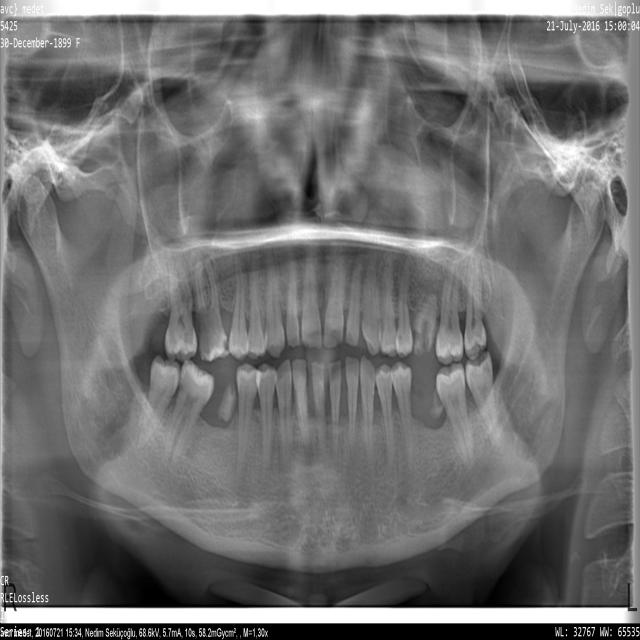Canine: (265, 248, 284, 358), (362, 256, 381, 355), (275, 359, 291, 474), (360, 356, 375, 465)
Incisores: (311, 362, 332, 465), (302, 248, 322, 350), (324, 255, 344, 347), (292, 360, 309, 456), (329, 360, 341, 464), (346, 264, 361, 347), (286, 261, 300, 347), (346, 357, 358, 457)
Premolars: (236, 363, 260, 488), (256, 364, 276, 493), (391, 362, 414, 471), (379, 254, 399, 357), (375, 364, 393, 478), (229, 253, 248, 360), (246, 253, 265, 359), (396, 257, 413, 358)
molars: (164, 361, 214, 461), (137, 357, 180, 448), (436, 363, 473, 464), (165, 247, 196, 362), (196, 258, 230, 362), (466, 352, 501, 445), (435, 259, 463, 364), (464, 257, 486, 359), (413, 293, 438, 355)
